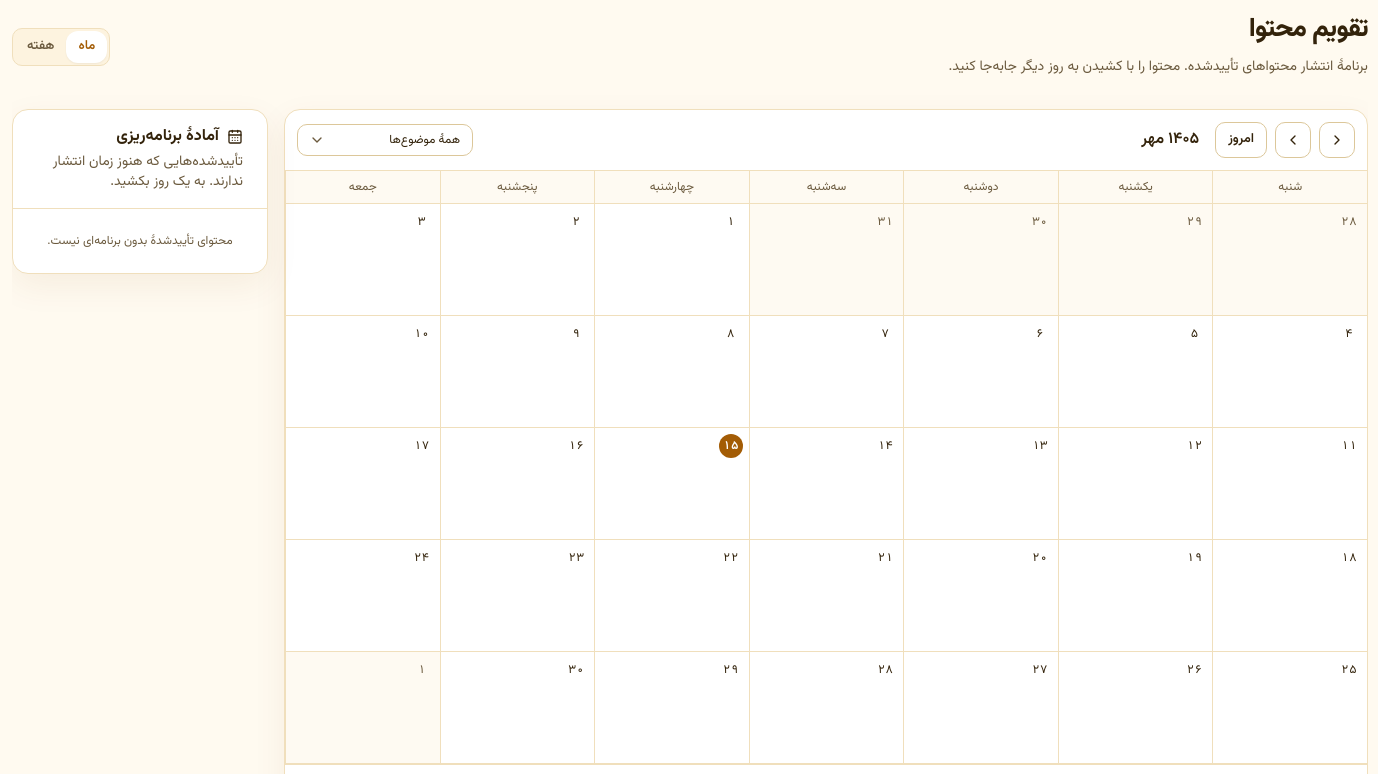
CalendarView › goes to the next month and back to today
Click the button named "بعدی". click: (1293, 140)
box: [1275,122,1311,158]
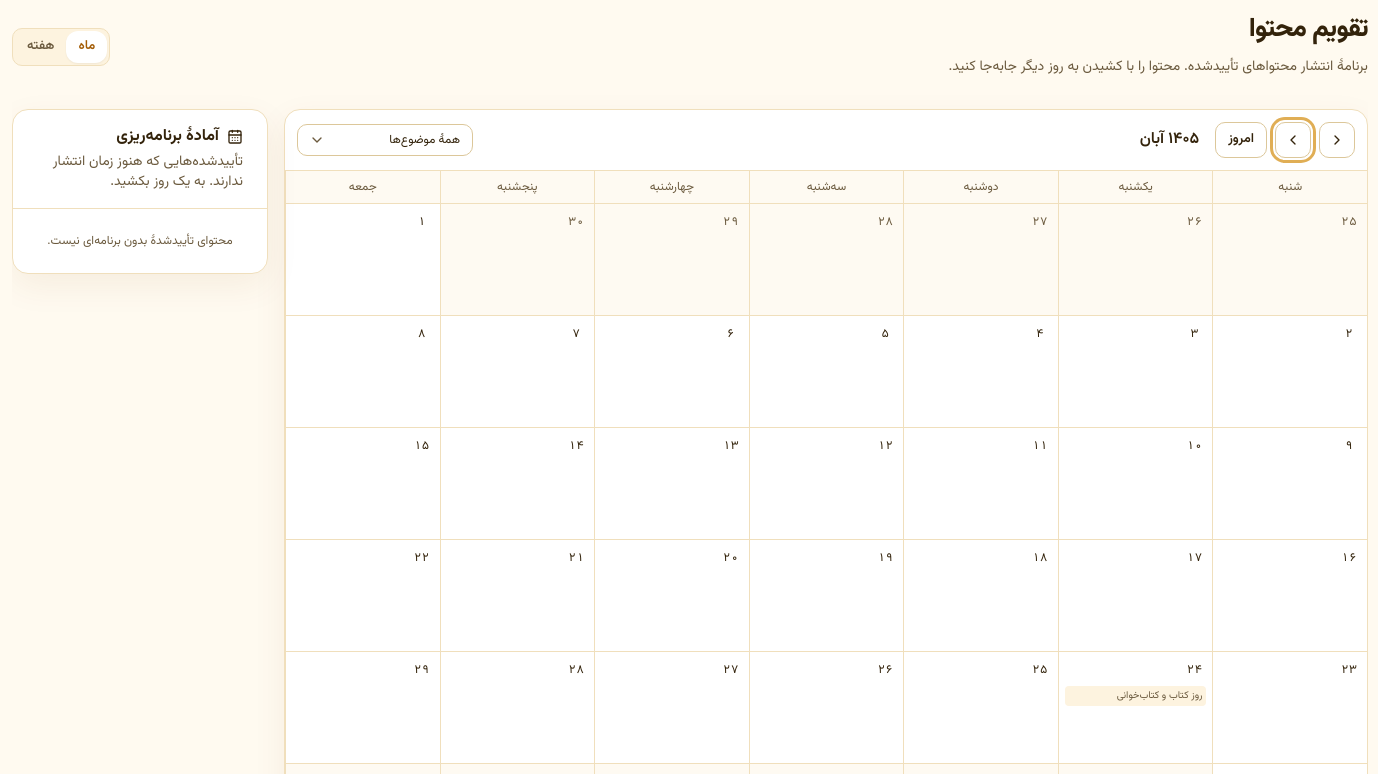
expect the heading "۱۴۰۵ آبان" is shown: met, box [1140,127,1199,152]
Click the button "امروز". click: (1241, 140)
box: [1215,122,1267,158]
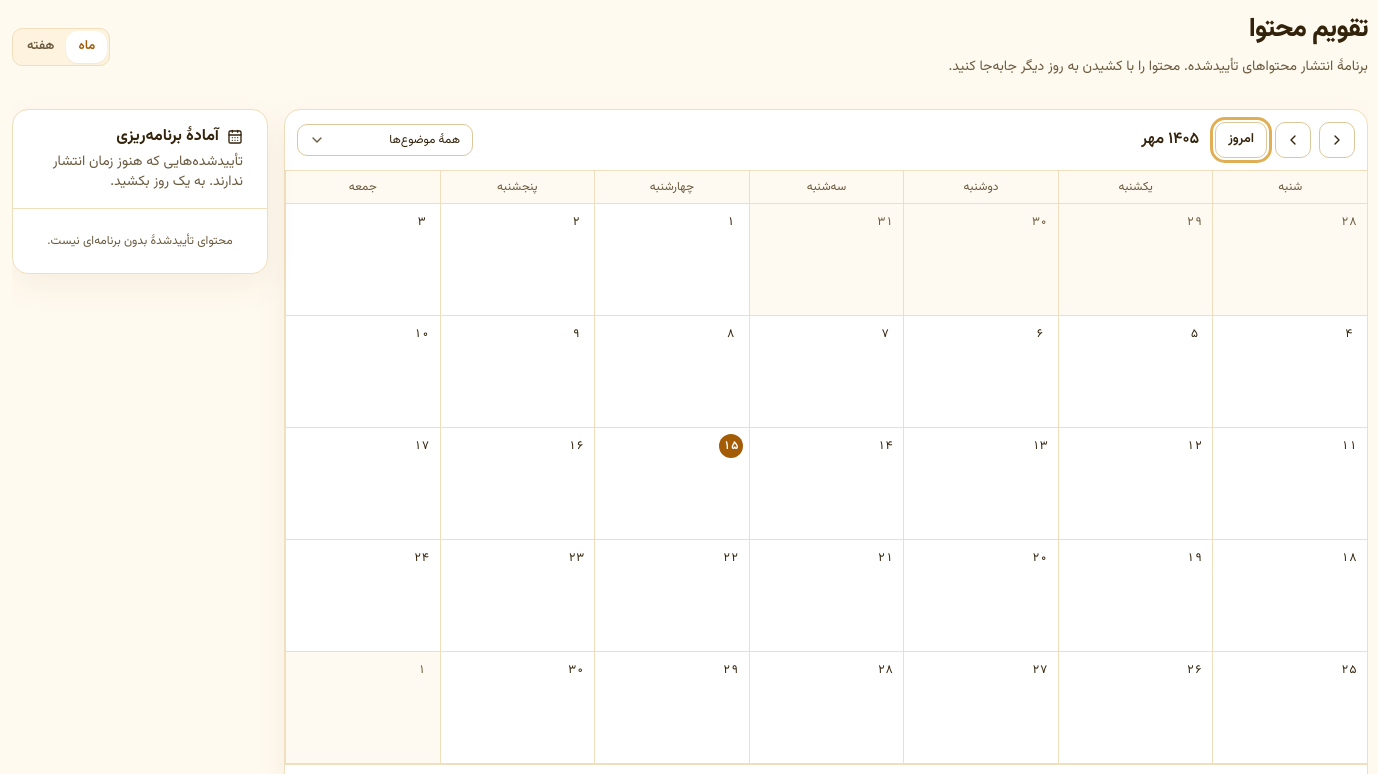
expect the heading "۱۴۰۵ مهر" is shown: met, box [1141,127,1199,152]
